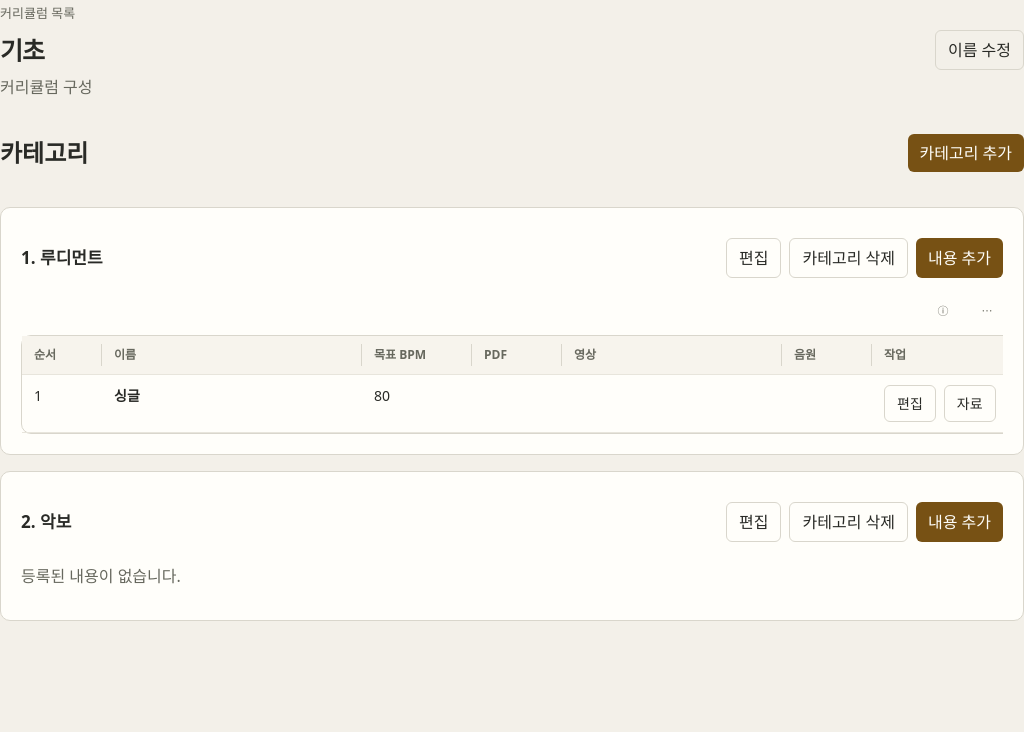
Test case: creates content with a null target bpm and null urls
Click the button "내용 추가" in the row of "악보" at point(960, 522), box left=916, top=502, right=1003, bottom=542
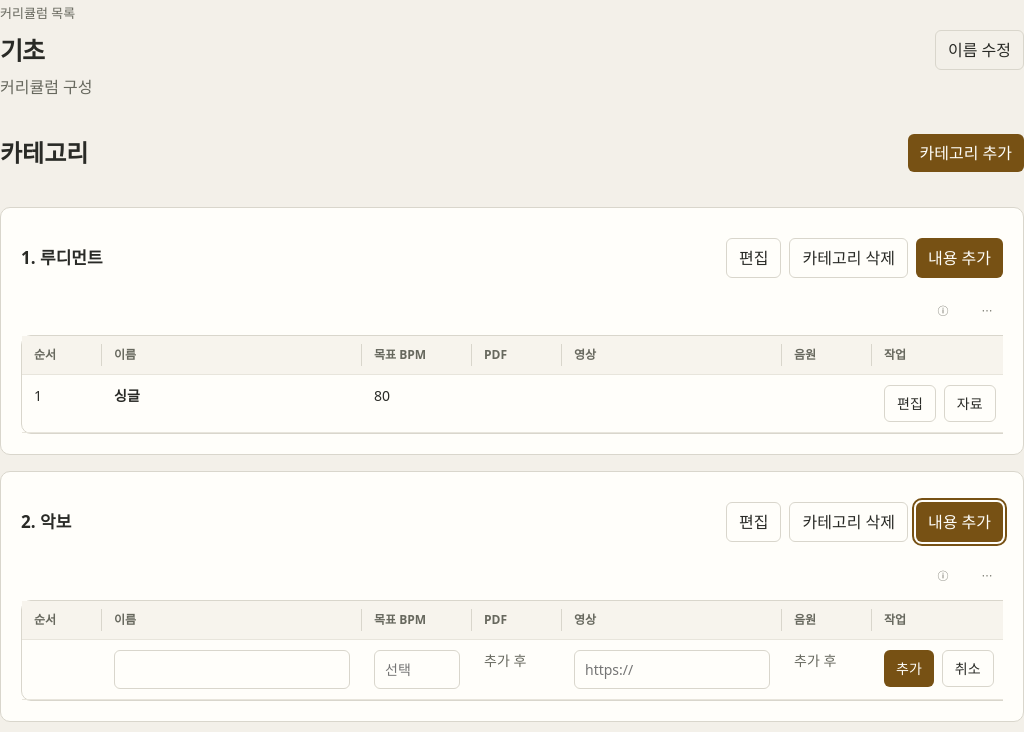
Type "더블" into the field named "이름" at point(232, 669), box left=114, top=650, right=350, bottom=689
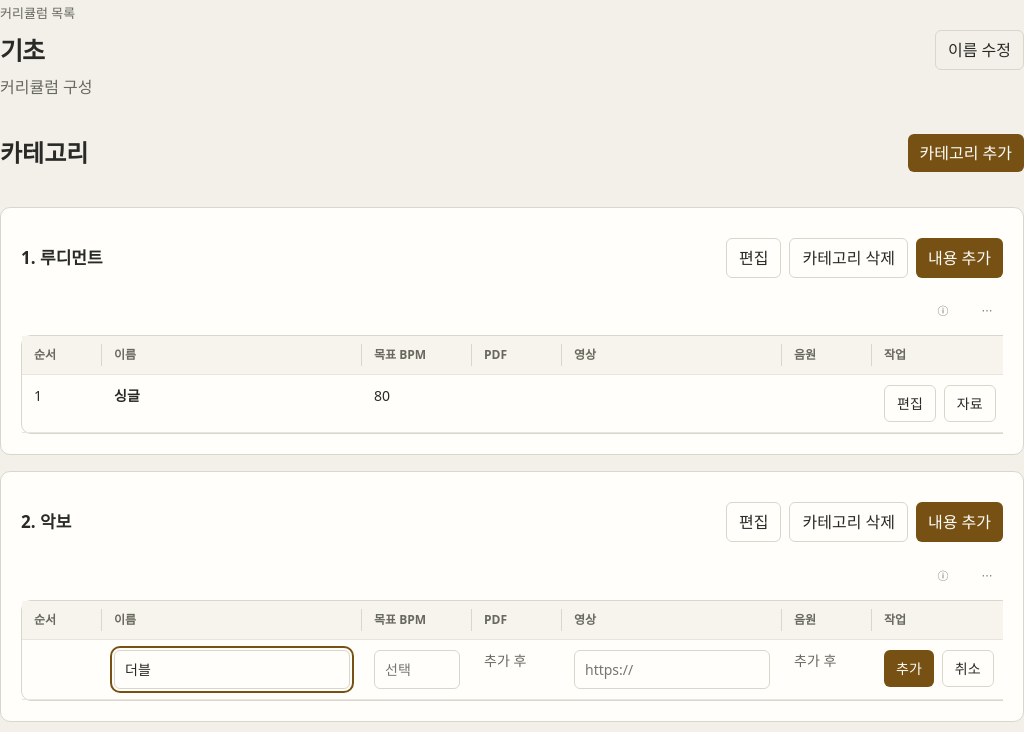
Click the button "추가" at point(909, 668), box left=884, top=650, right=934, bottom=687
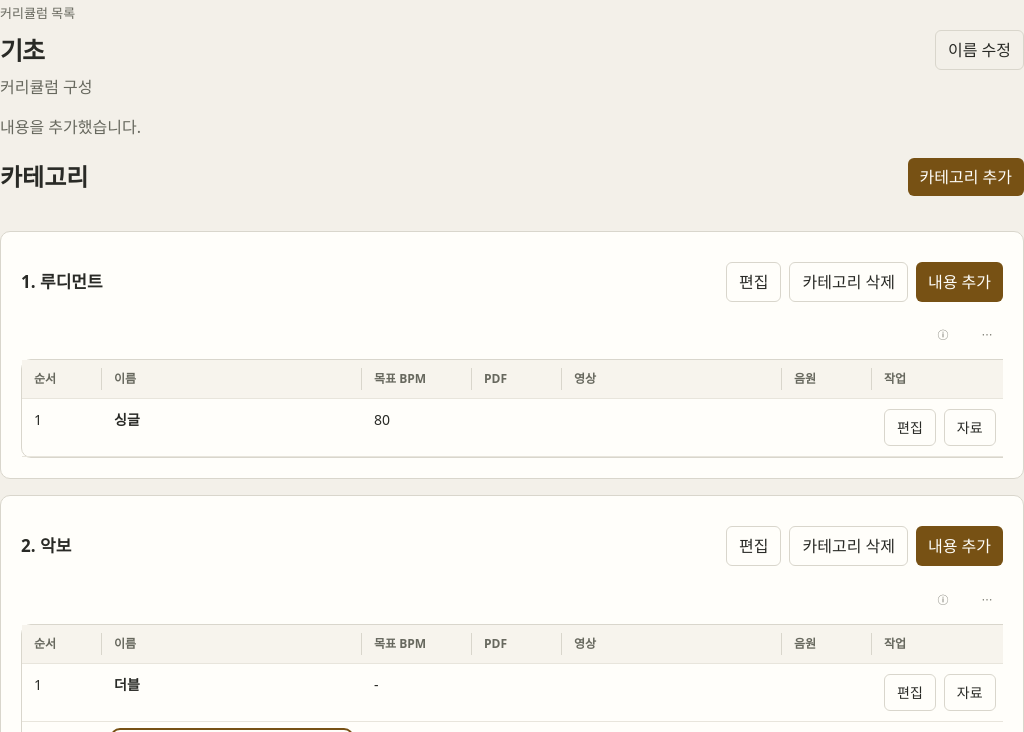
Check: the text "더블" is shown, box left=102, top=664, right=362, bottom=722
